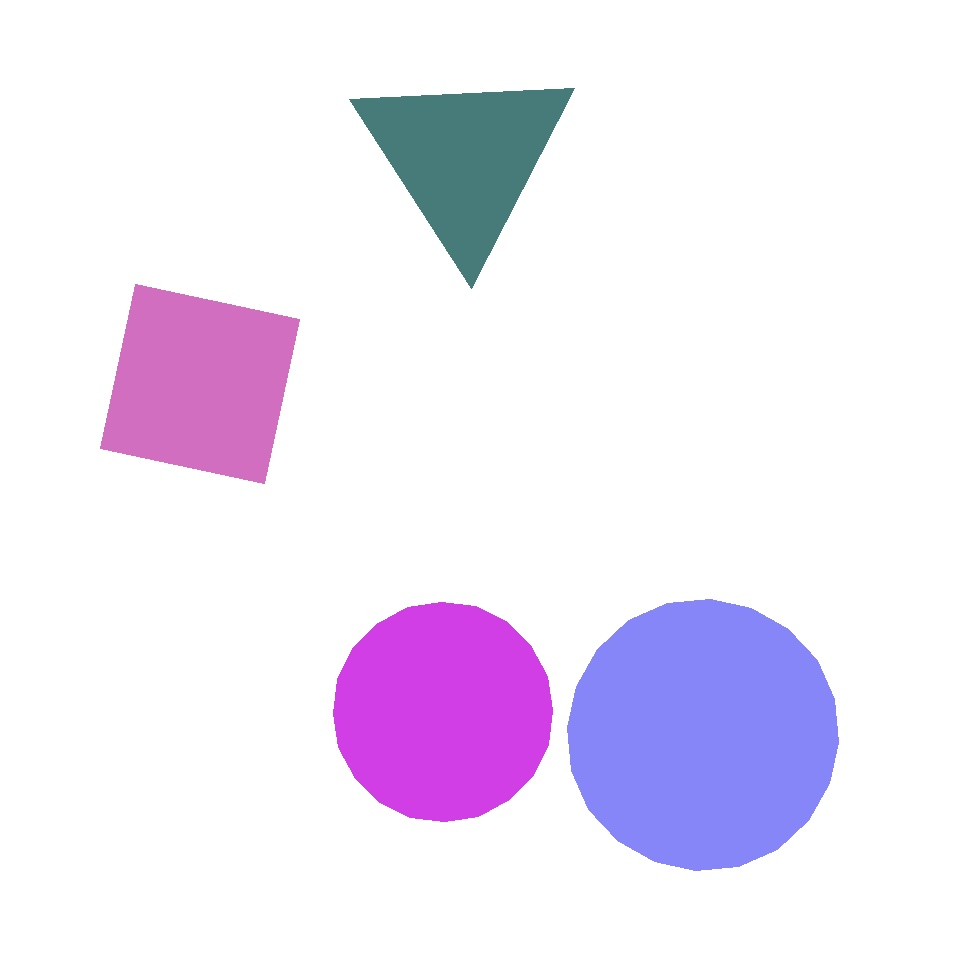circle: (352, 59, 578, 259), (390, 734, 556, 914), (780, 167, 886, 281)
square: (100, 284, 300, 484)
triangle: (568, 600, 838, 870), (334, 603, 552, 822), (344, 296, 472, 422)
